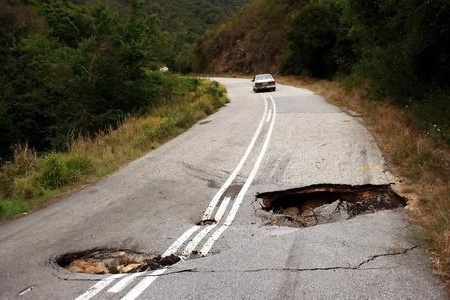pothole: (252, 178, 412, 230), (47, 244, 182, 278), (190, 216, 219, 228)
